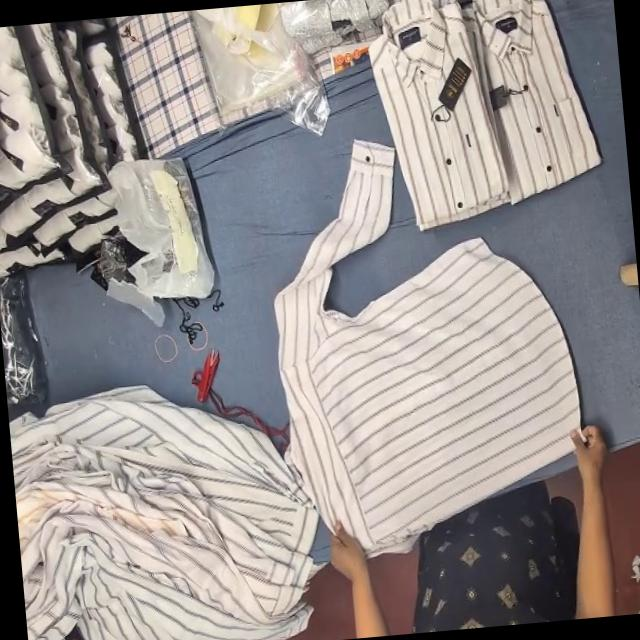new-garment: (274, 143, 579, 551)
